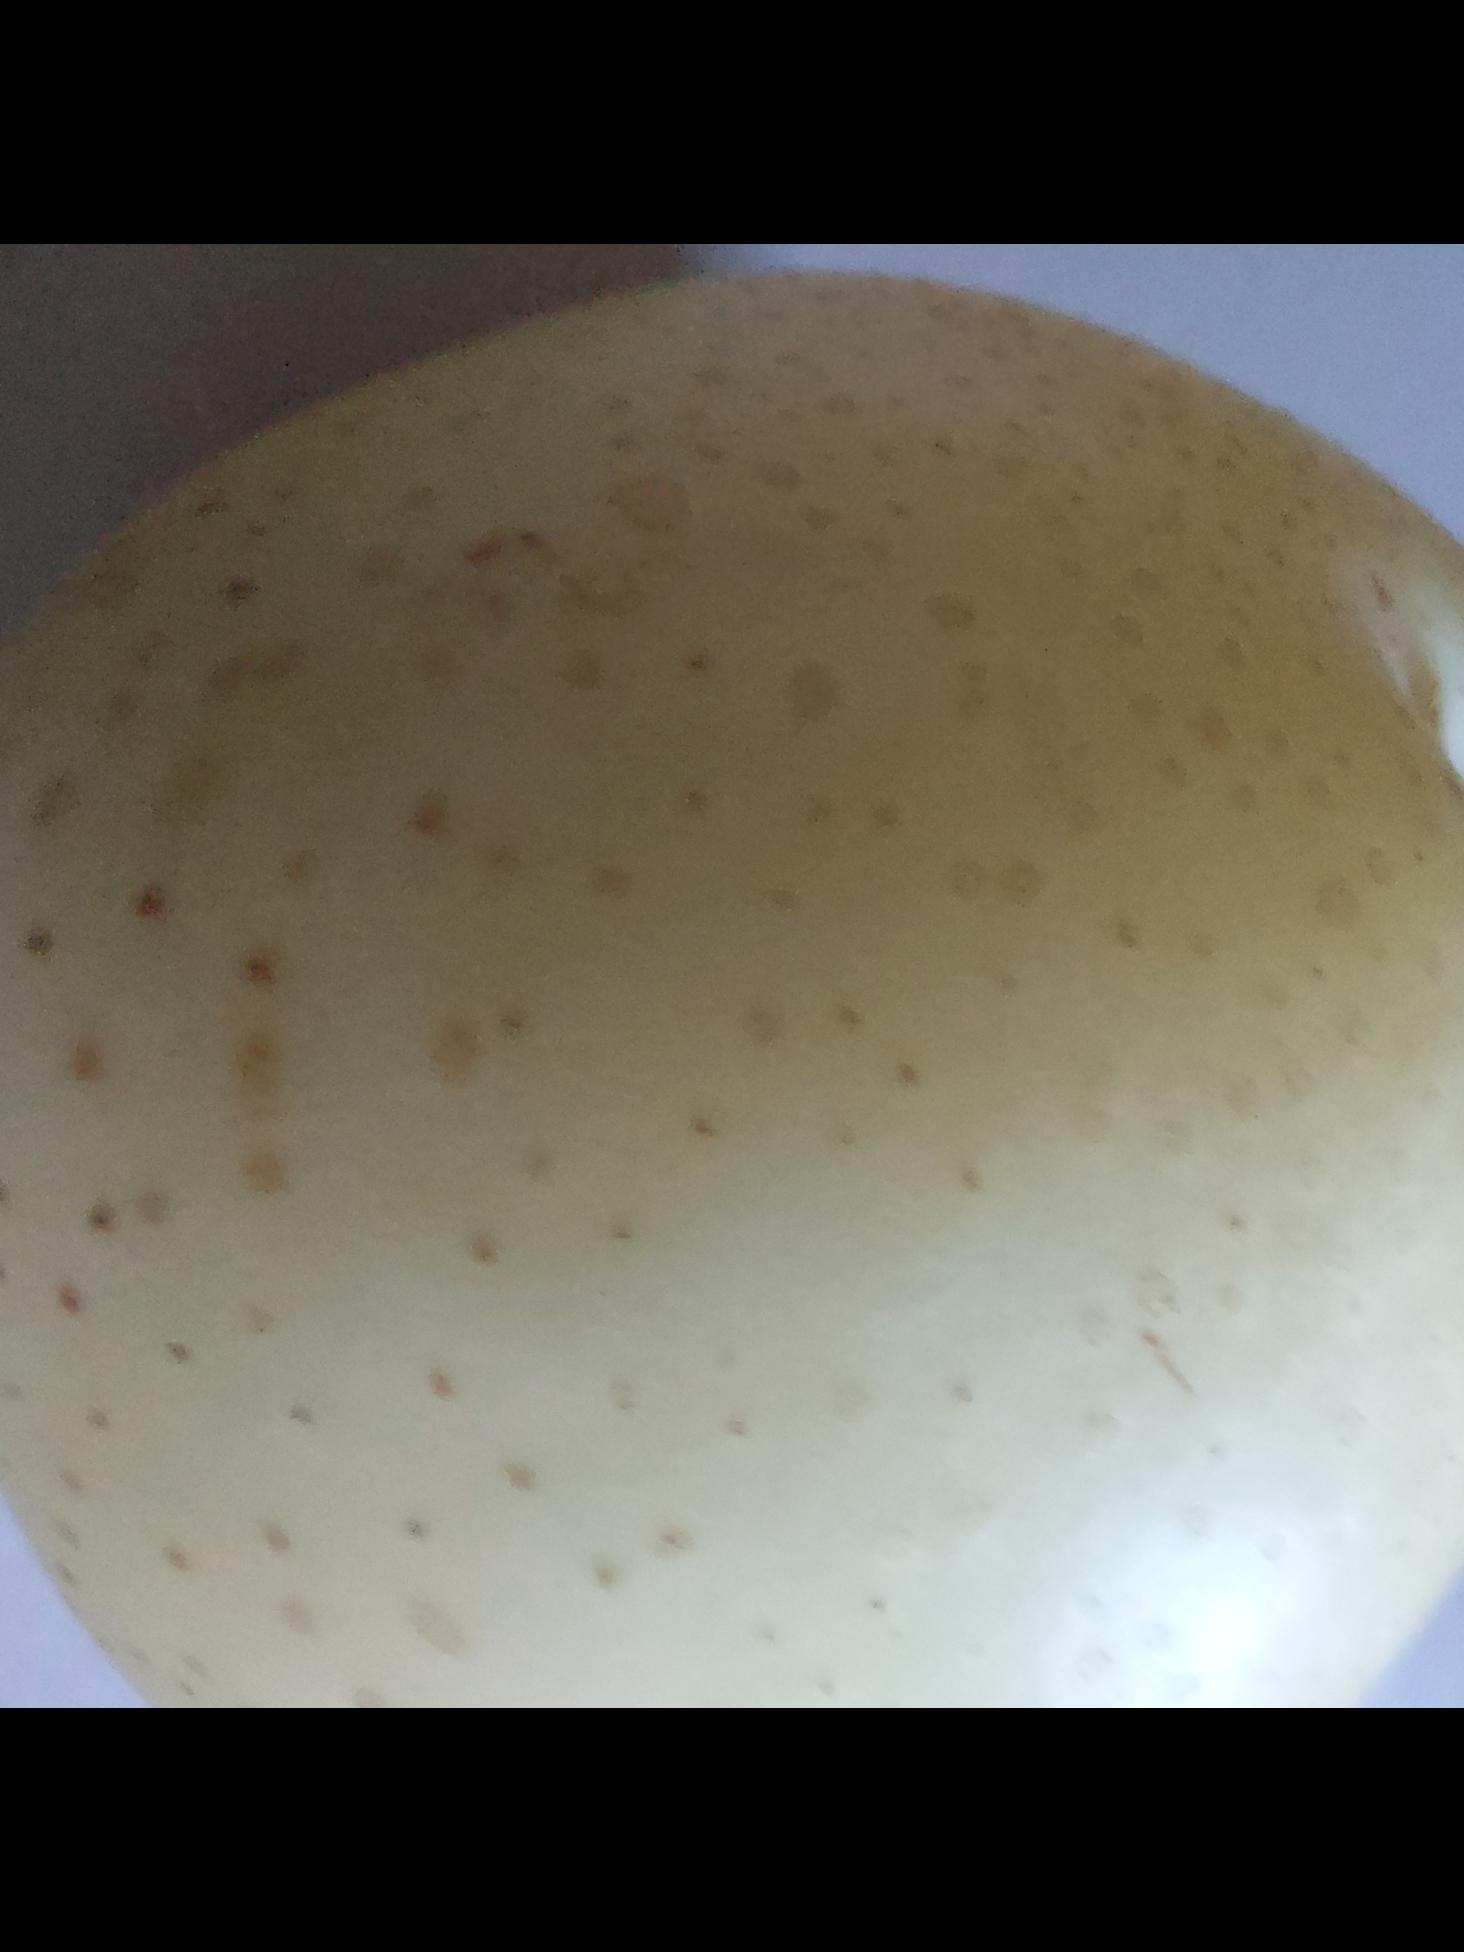Good Pear: (0, 260, 1464, 1708)
